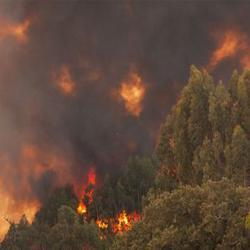fire: (120, 79, 144, 106), (1, 20, 25, 38), (78, 199, 86, 213), (97, 219, 107, 229)
